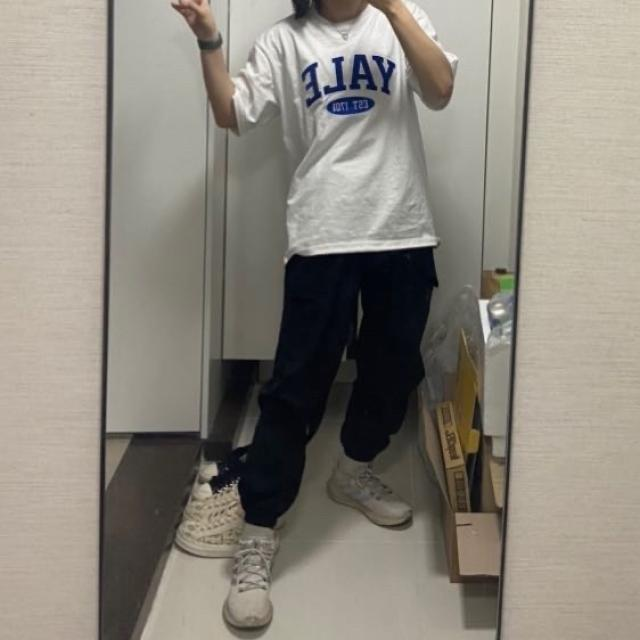shortsleeve: (231, 6, 460, 261)
trainingpants: (238, 249, 442, 531)
